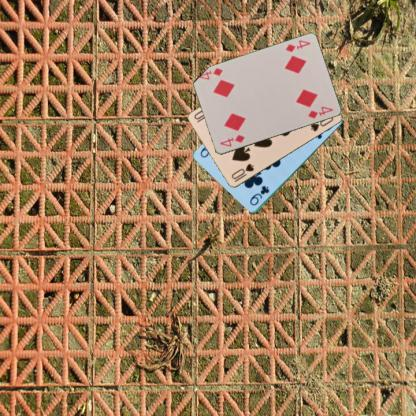10s: (229, 161, 255, 184)
4d: (217, 132, 246, 148), (282, 38, 312, 53)
9c: (248, 183, 270, 207)
